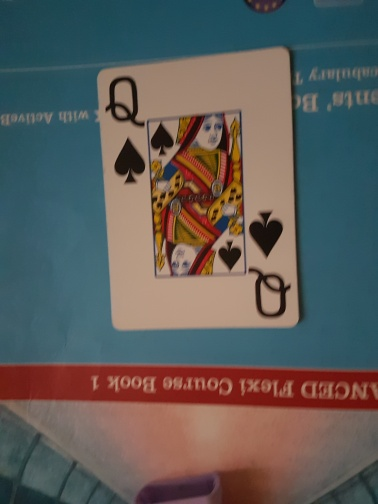queen: (98, 48, 302, 329)
